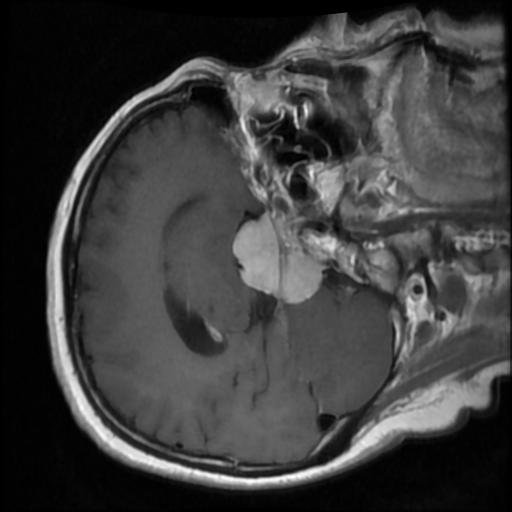meningioma: (229, 215, 323, 304)
